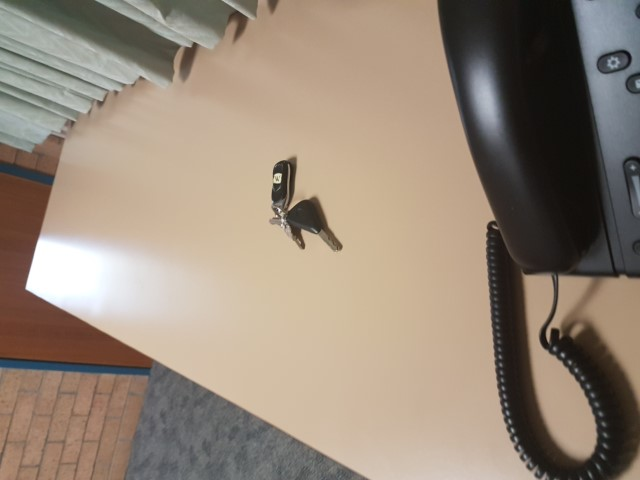key: (282, 199, 343, 252)
